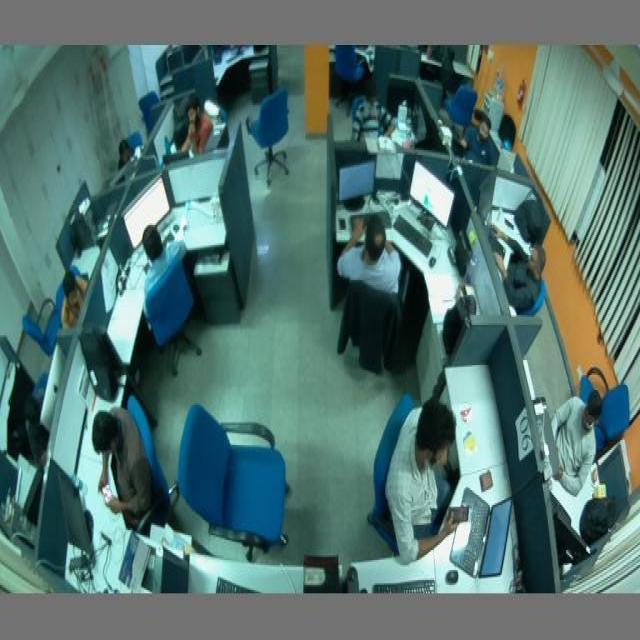chair: (175, 401, 298, 564), (370, 393, 416, 560), (338, 282, 413, 378), (142, 262, 202, 372), (244, 81, 298, 192), (574, 364, 632, 438), (332, 44, 368, 114), (20, 297, 66, 348), (442, 74, 478, 128), (138, 94, 162, 124), (532, 279, 548, 319)
keyboard: (392, 215, 434, 260), (368, 574, 446, 594), (348, 211, 396, 229), (216, 576, 256, 596), (160, 224, 177, 256)
laptop: (452, 488, 515, 578)
monitor: (54, 467, 100, 565), (408, 162, 457, 233), (551, 501, 595, 574), (334, 158, 381, 207), (476, 167, 501, 226)
person: (388, 402, 463, 563), (92, 407, 154, 528), (549, 390, 604, 495), (338, 215, 404, 293), (491, 225, 546, 312), (140, 223, 187, 297), (352, 82, 396, 145), (450, 115, 494, 165), (176, 95, 213, 153), (24, 385, 48, 468), (62, 268, 88, 325), (114, 137, 134, 170)
phone: (444, 502, 472, 536), (100, 482, 116, 508)
